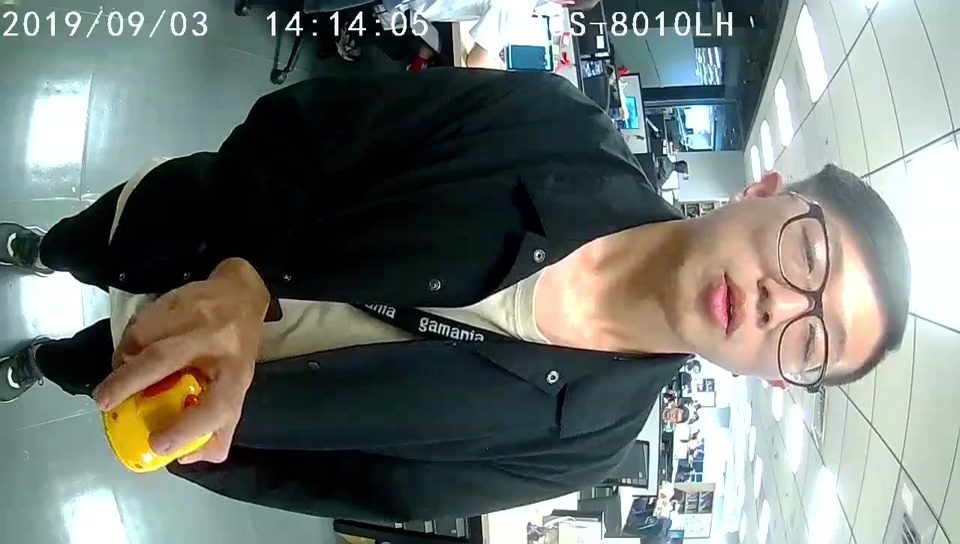car: (104, 369, 215, 473)
